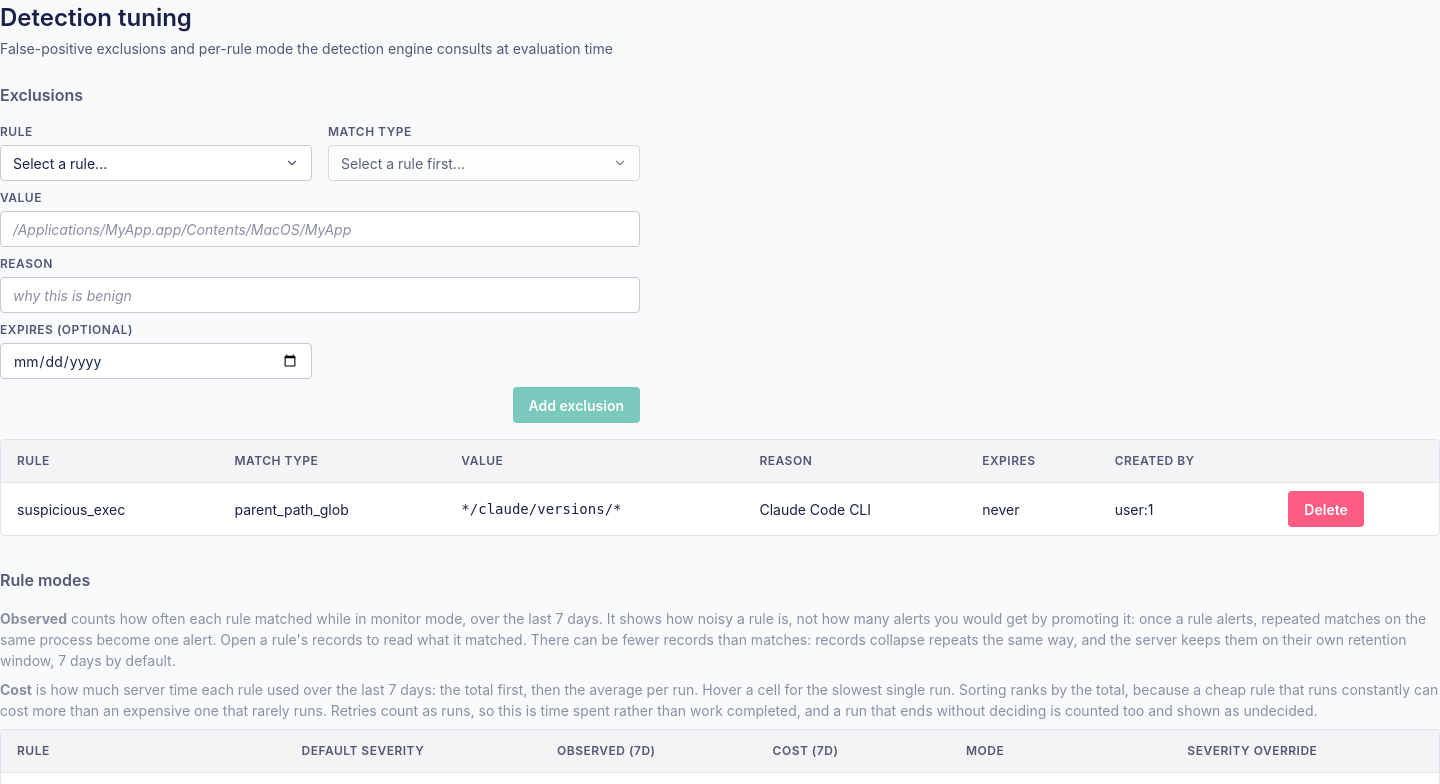
Test: DetectionConfig › renders a mutation error from a typed API error
Expected: the text "*/claude/versions/*" is shown, left=461, top=500, right=622, bottom=516
Click the button "Delete" at x=1326, y=509, box left=1288, top=491, right=1364, bottom=527
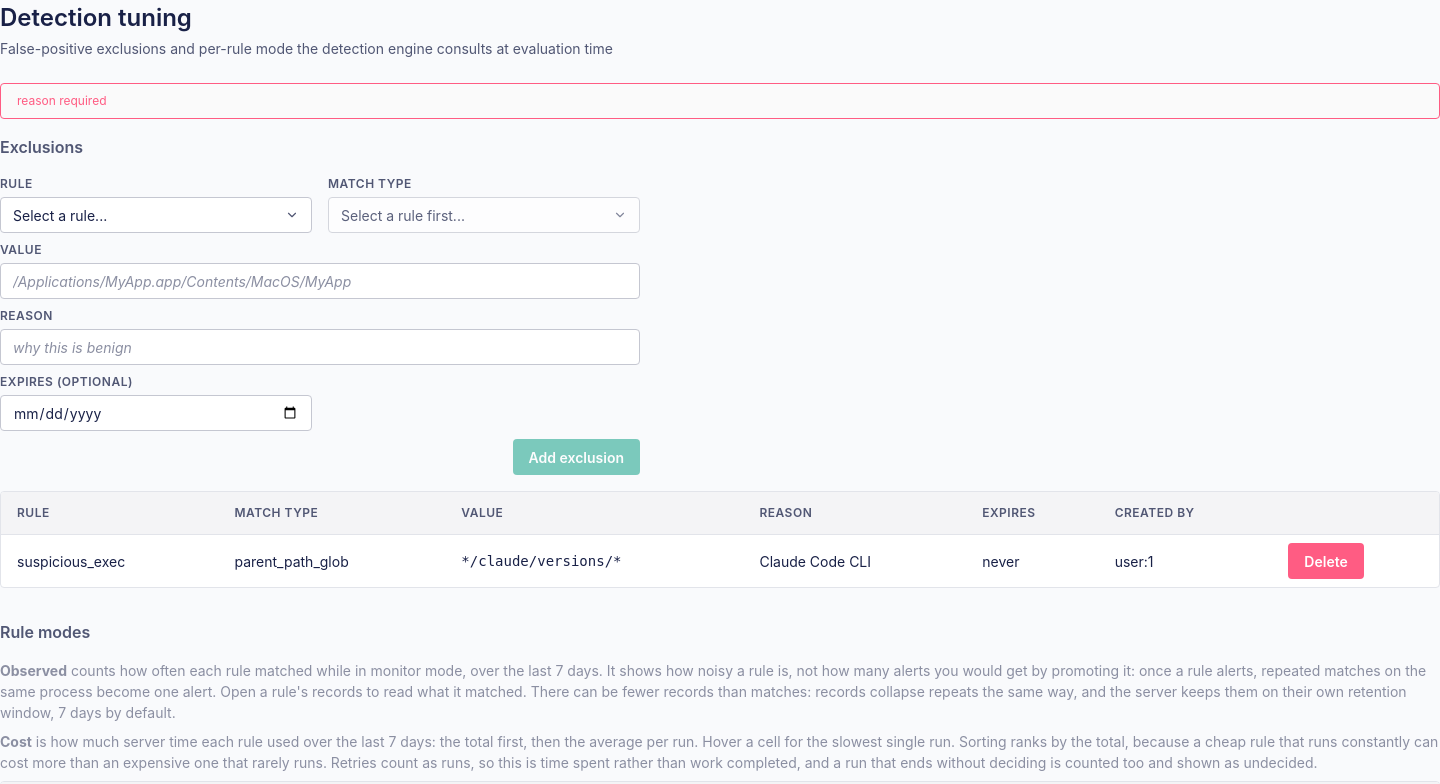
Now the message reads "reason required", box left=17, top=93, right=106, bottom=108
